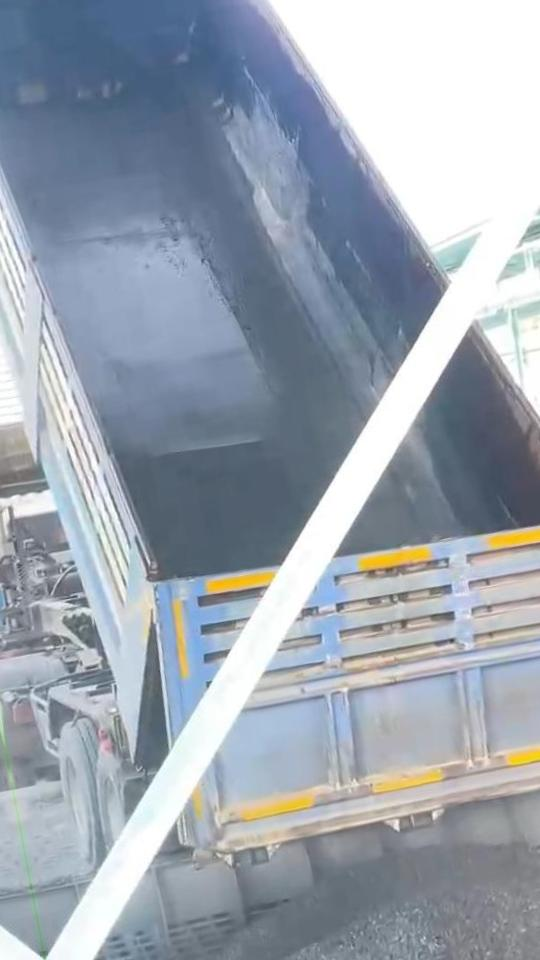gravel: (212, 846, 540, 960)
